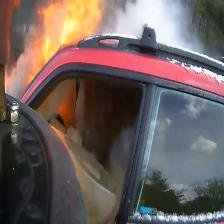fire: (30, 0, 105, 141)
smoke: (75, 76, 141, 223), (106, 1, 207, 49), (5, 45, 37, 99)
